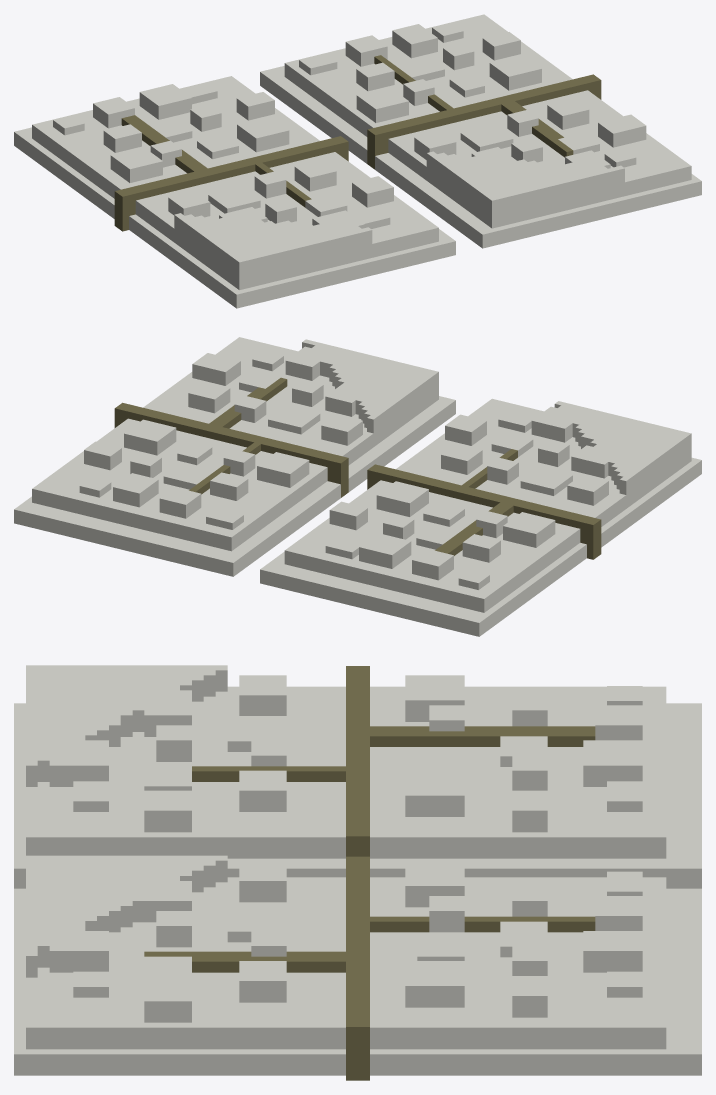
The model's file is footrags_faux_fur.glb.
3 views of the same model, one above another, from view 1: azimuth 30°, elevation 25°; view 2: azimuth 150°, elevation 25°; view 3: azimuth 270°, elevation 25° (orthographic). The views are drawn at different scales.
Visible parts, largest first — view 1: footrags_faux_fur:compound; view 2: footrags_faux_fur:compound; view 3: footrags_faux_fur:compound.
Boxes of the visible parts, x1,y1,x2,y2 form: footrags_faux_fur:compound: [14, 14, 701, 308]; footrags_faux_fur:compound: [14, 337, 701, 636]; footrags_faux_fur:compound: [14, 665, 701, 1080].
Bounding box in the file's own units: 0.288 × 0.024 × 0.232.
